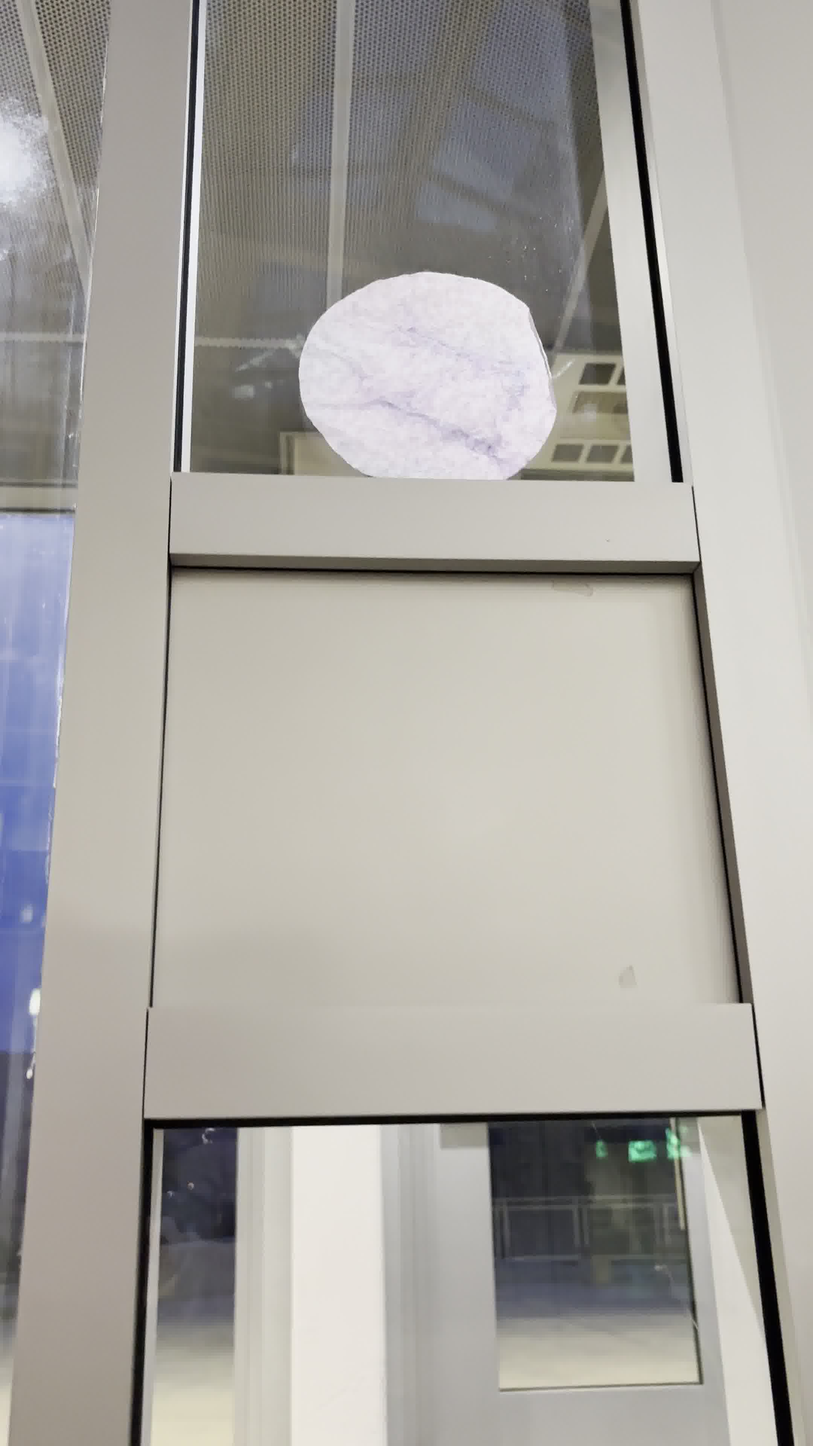Target: (291, 268, 559, 491)
